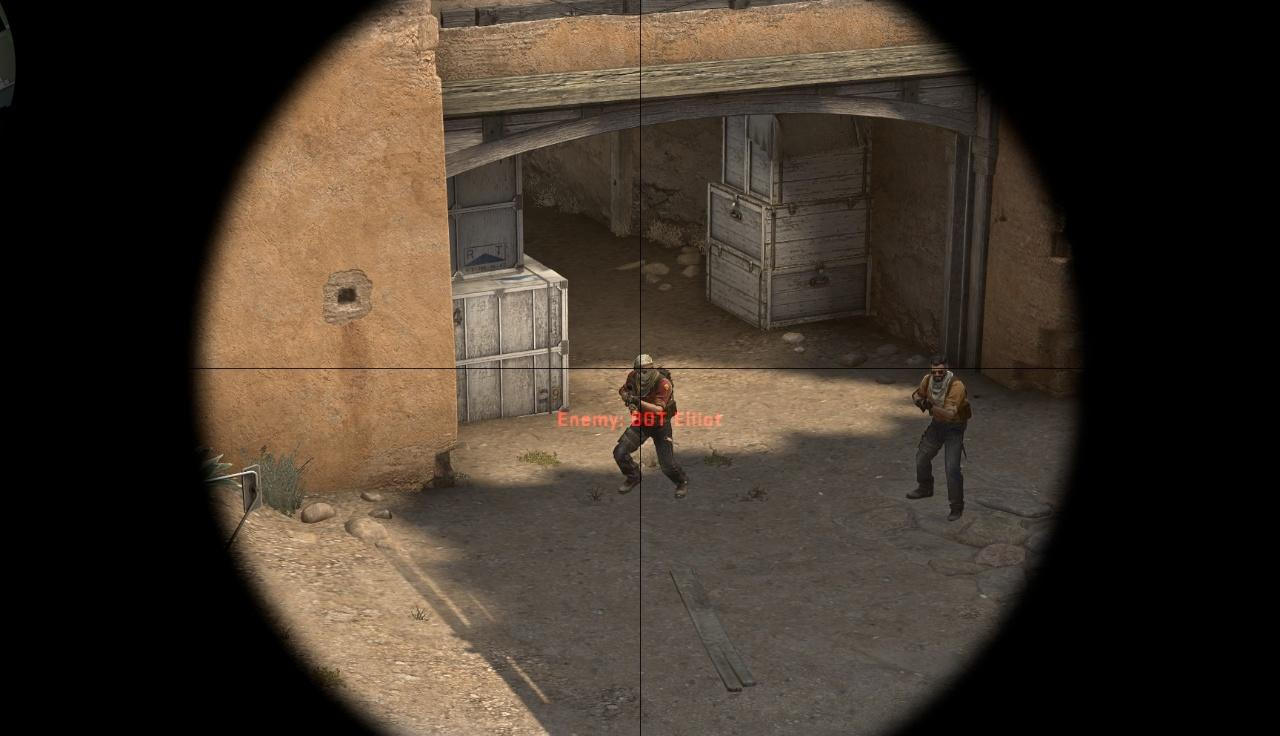tt: (614, 354, 690, 498), (909, 357, 968, 520)
tthead: (635, 355, 652, 382), (931, 357, 947, 380)
